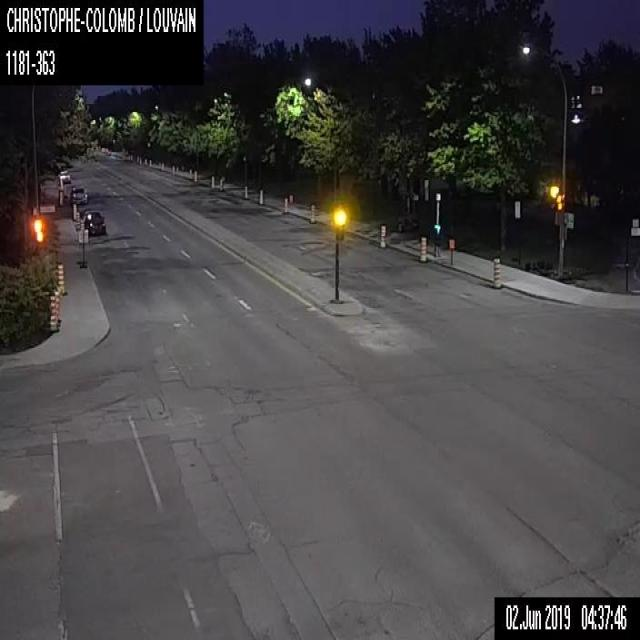construction: (49, 294, 59, 332), (78, 228, 87, 267), (492, 256, 501, 287), (57, 264, 65, 293), (54, 290, 60, 326), (418, 236, 426, 261), (57, 287, 62, 321), (378, 224, 385, 248), (448, 237, 454, 264), (308, 202, 315, 222), (74, 211, 80, 229), (258, 188, 263, 204), (282, 196, 287, 212), (58, 190, 63, 206), (210, 175, 215, 189), (72, 203, 76, 220), (244, 184, 248, 199), (289, 193, 292, 210), (218, 178, 222, 190), (160, 161, 164, 171), (188, 169, 192, 179), (148, 158, 152, 167), (79, 221, 84, 228), (171, 165, 174, 176), (138, 156, 142, 164), (136, 154, 139, 164), (193, 171, 196, 181), (144, 157, 146, 166)
vehicle: (82, 209, 104, 236), (70, 184, 86, 201), (57, 170, 70, 182)
